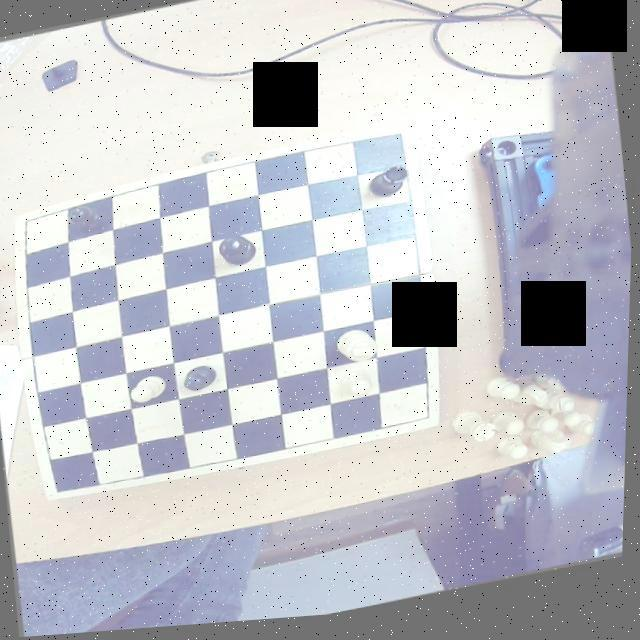chess-table-corners: (384, 131, 412, 158), (416, 410, 442, 434), (46, 482, 76, 502), (13, 214, 38, 237)
